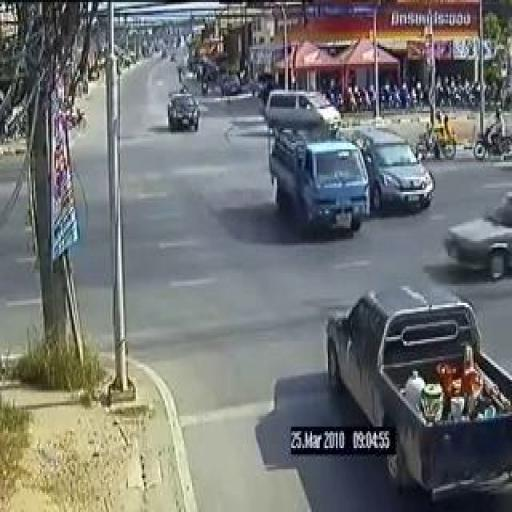Car: (325, 275, 512, 496), (270, 123, 368, 233), (355, 129, 434, 216), (446, 184, 512, 280), (268, 90, 338, 132), (165, 91, 200, 133)
Motor: (475, 113, 512, 169), (416, 118, 454, 162)
Not Accident: (269, 122, 433, 231)
